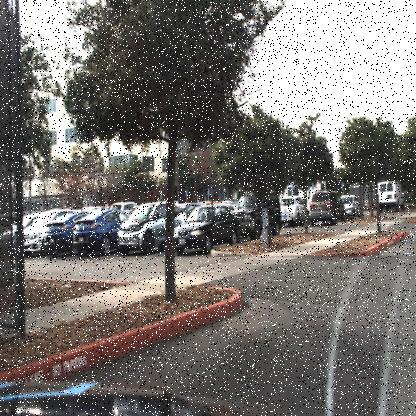car: (171, 201, 240, 256), (117, 199, 173, 258), (74, 209, 128, 262), (231, 186, 284, 238), (44, 212, 88, 262), (305, 190, 347, 224), (18, 219, 49, 256), (277, 192, 306, 230), (375, 180, 407, 214), (342, 194, 360, 219)
truck: (375, 179, 406, 215)
